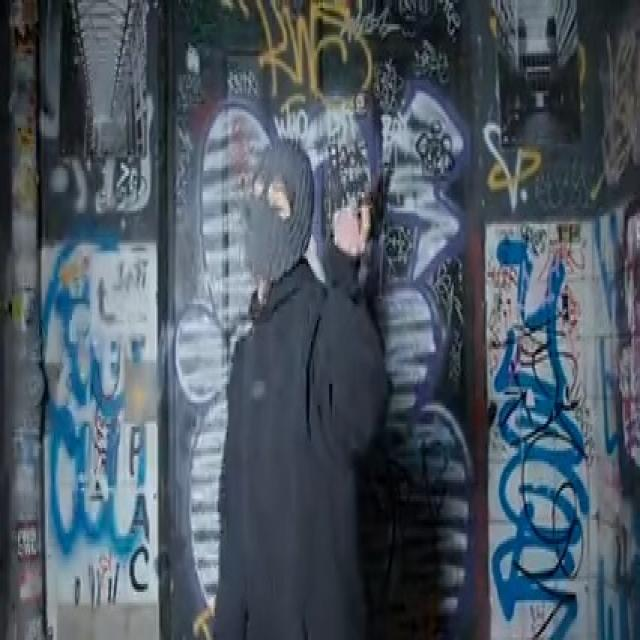Gun_Holder: (327, 138, 407, 270)
Person: (208, 140, 399, 640)
